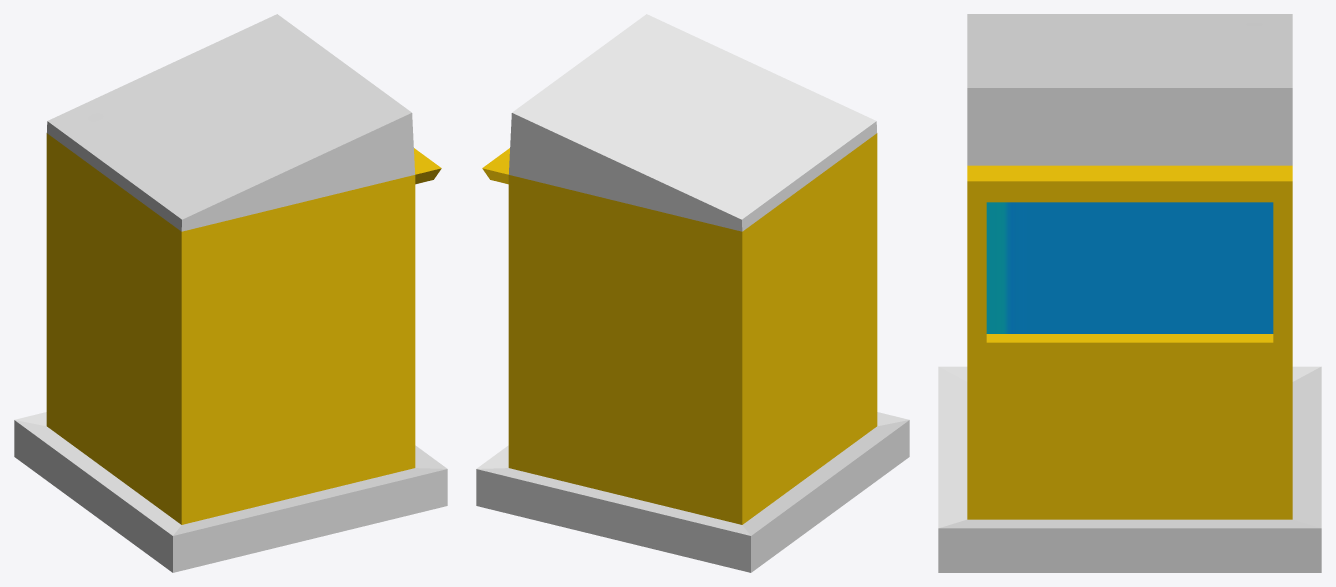
File: build_5_1.dae
3 views of the same model, side by side, from view 1: azimuth 30°, elevation 25°; view 2: azimuth 150°, elevation 25°; view 3: azimuth 270°, elevation 25° (orthographic). The views are drawn at different scales.
Visible parts, largest first — view 1: house_5; view 2: house_5; view 3: house_5.
Boxes of the visible parts, x1,y1,x2,y2 form: house_5: [14, 14, 447, 572]; house_5: [476, 14, 909, 572]; house_5: [938, 14, 1321, 572].
Bounding box in the file's own units: 2.54 × 2.49 × 3.37.
1 material, 1 textured.
